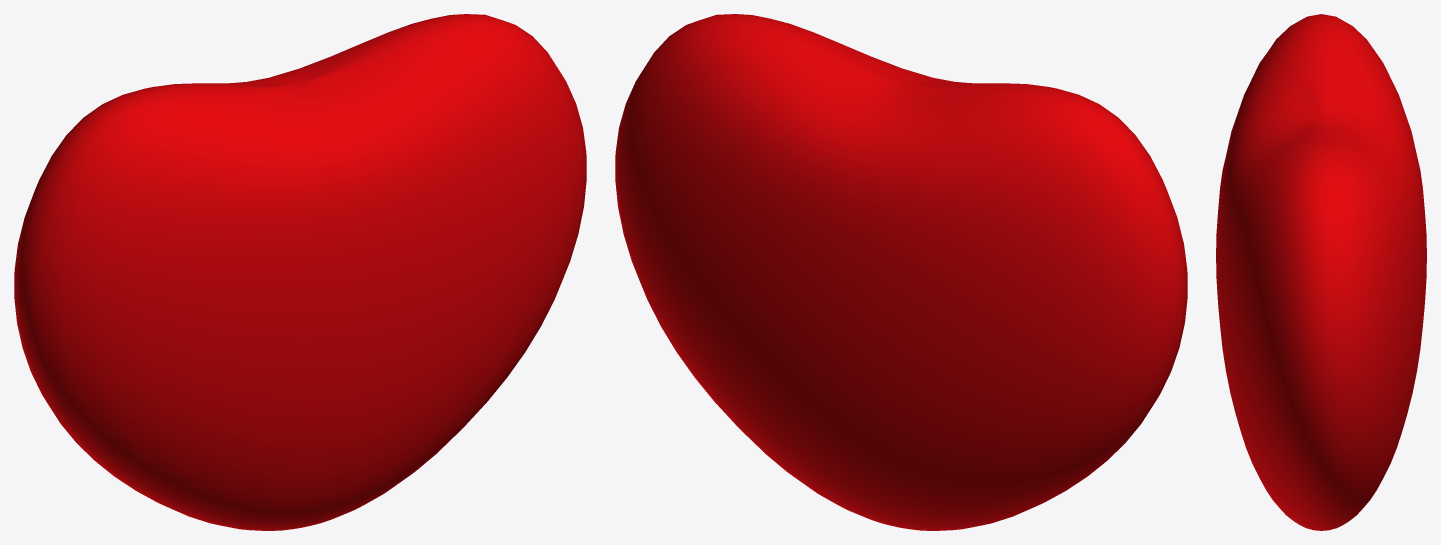
Rendered from MW Heart.glb.
The picture shows the model from 3 angles, left to right: view 1: azimuth 30°, elevation 25°; view 2: azimuth 150°, elevation 25°; view 3: azimuth 270°, elevation 25°; orthographic projection. The views are drawn at different scales.
Visible parts, largest first — view 1: Sphere; view 2: Sphere; view 3: Sphere.
Boxes of the visible parts, bbox=[...] form: Sphere: bbox=[14, 14, 586, 530]; Sphere: bbox=[615, 14, 1187, 530]; Sphere: bbox=[1216, 14, 1426, 530].
Size of the model in its own units: 2.17 by 1.72 by 0.7834.
